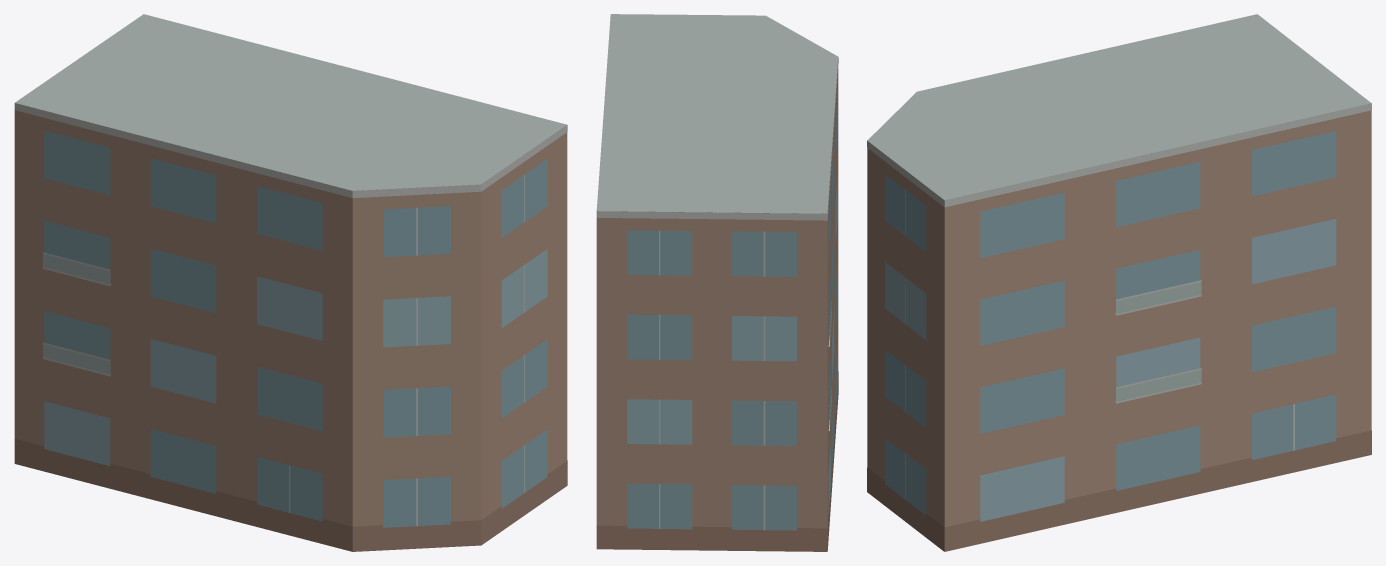
File: survey-upis-33000261.glb
The picture shows the model from 3 angles, left to right: view 1: azimuth 30°, elevation 25°; view 2: azimuth 150°, elevation 25°; view 3: azimuth 270°, elevation 25°; orthographic projection. The views are drawn at different scales.
Parts seen in each view (by area): view 1: survey-upis-33000261.tmp; view 2: survey-upis-33000261.tmp; view 3: survey-upis-33000261.tmp.
Part boxes in pixels (x1,y1,x2,y2): survey-upis-33000261.tmp: (14, 14, 567, 551); survey-upis-33000261.tmp: (596, 14, 838, 551); survey-upis-33000261.tmp: (867, 14, 1371, 551).
Bounding box in the file's own units: 13.88 × 12.2 × 15.88.
